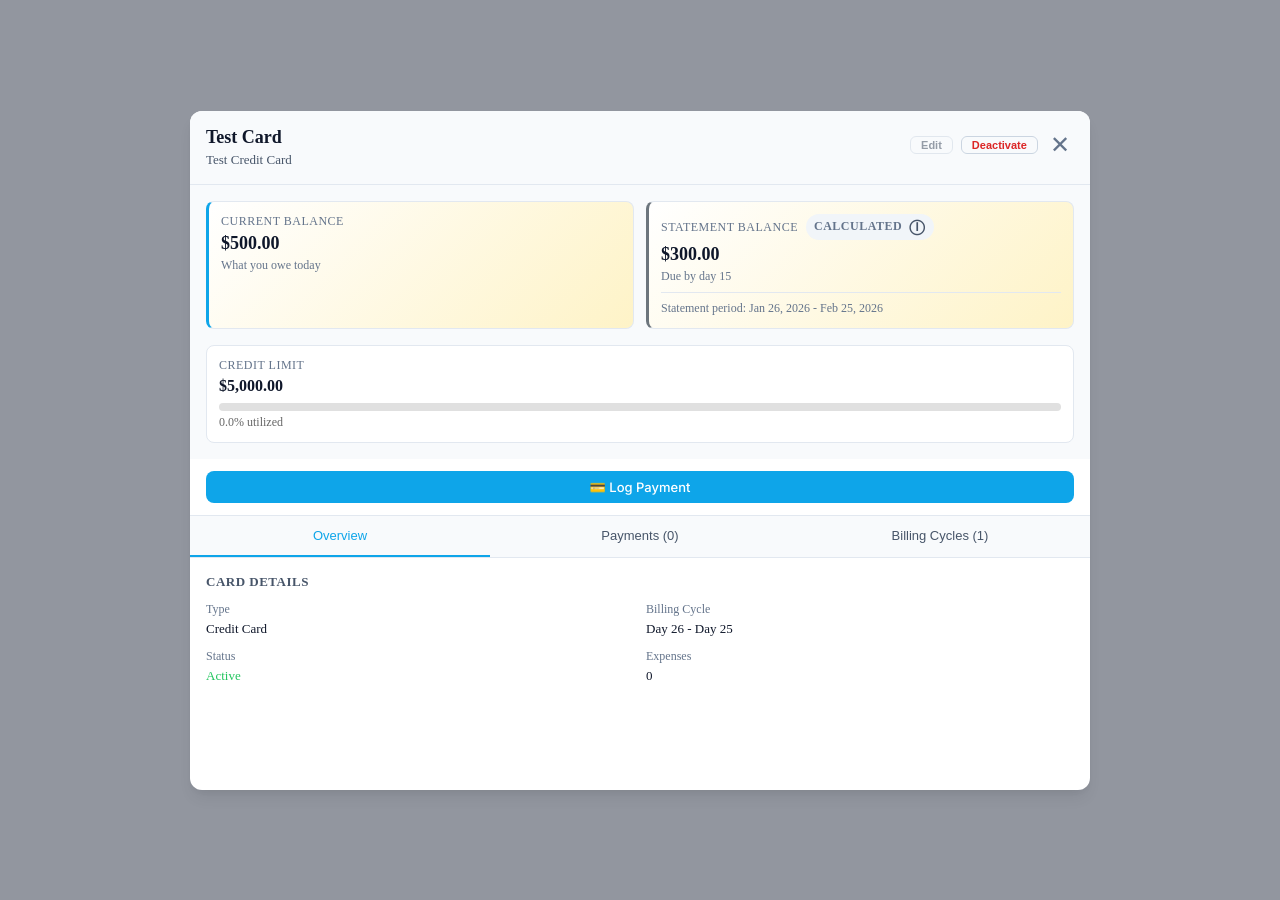
Test: CreditCardDetailView - Billing Cycle Integration › Section Visibility Based on billing_cycle_day › should show "Enter Statement" button when billing_cycle_day is configured
Expected: the heading "Test Card" is shown, [206, 126, 292, 148]
// Click on Billing Cycles tab to see the cycles list
Click the button "Billing Cycles (1)". click: [940, 536]
box: [790, 516, 1090, 556]
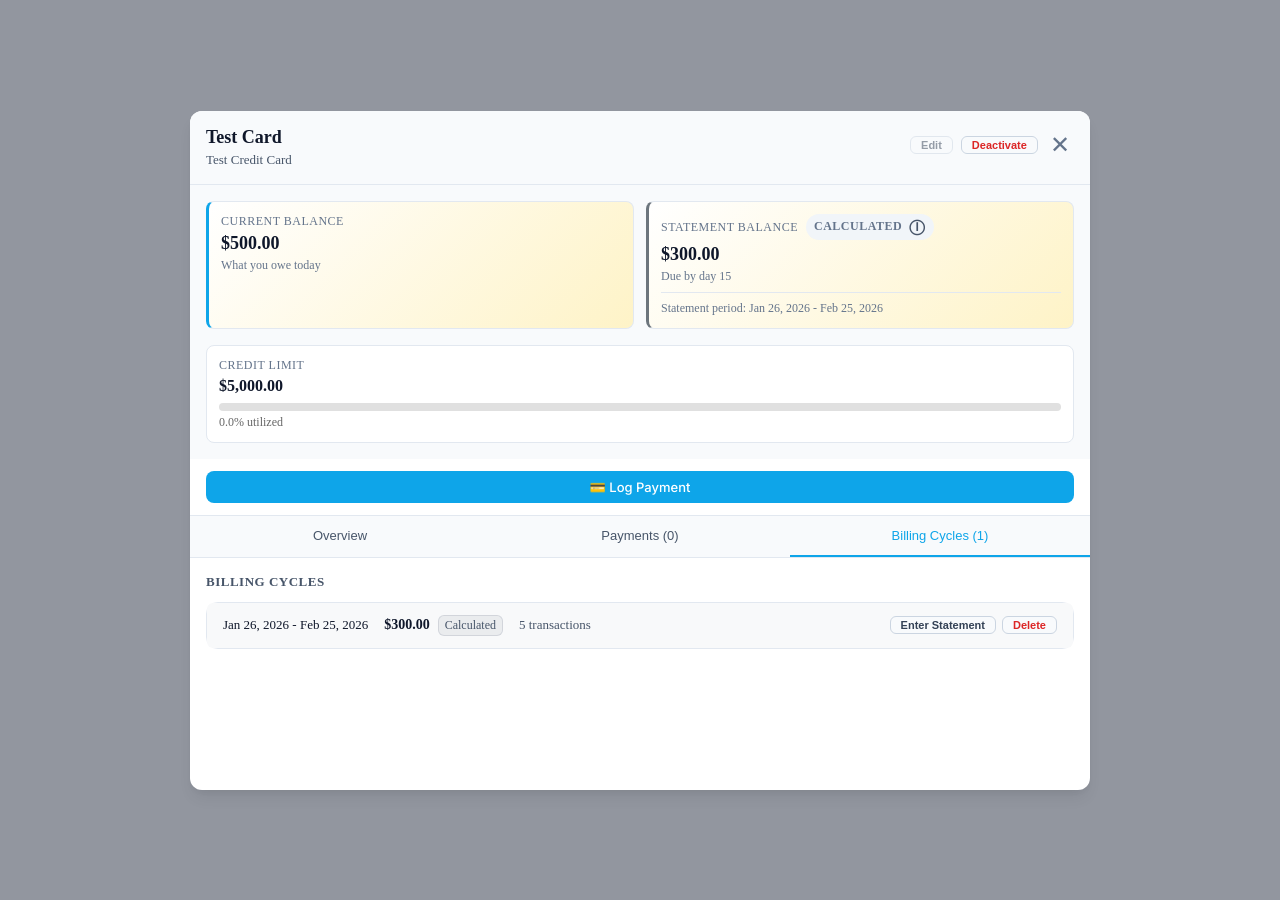
Now the button "Enter Statement" is shown, box [890, 616, 996, 634]
